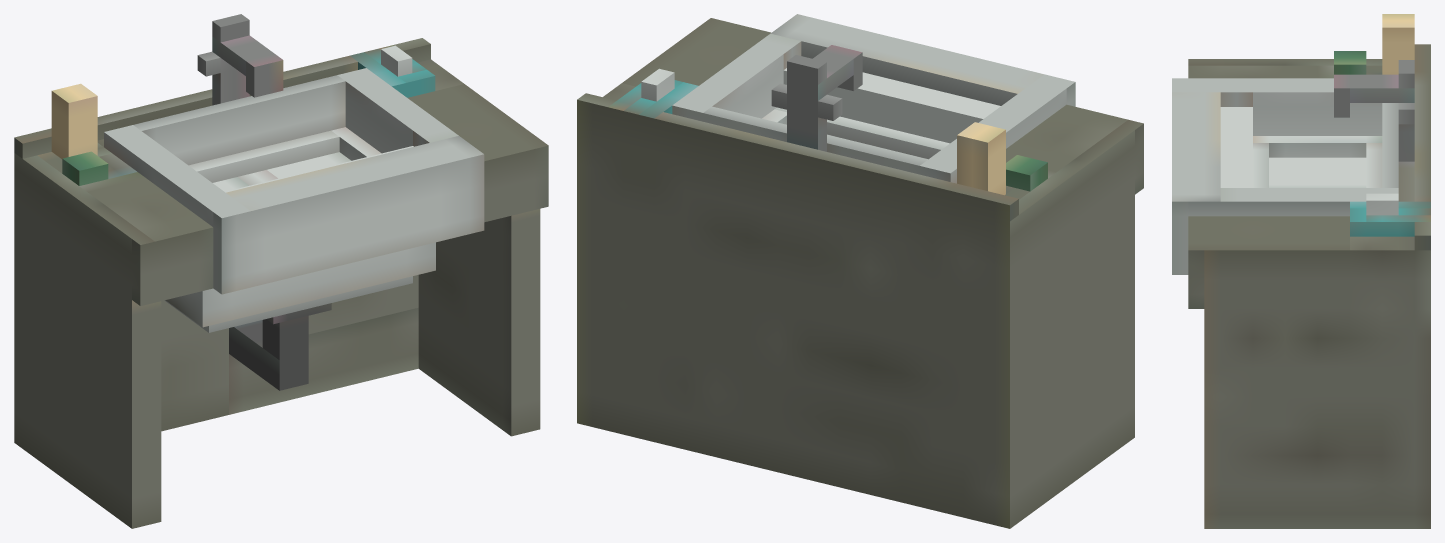
File: BathroomSink_00.fbx
3 renders of one model, left to right at view 1: azimuth 30°, elevation 25°; view 2: azimuth 150°, elevation 25°; view 3: azimuth 270°, elevation 25°, orthographic. The views are drawn at different scales.
Parts seen in each view (by area): view 1: BathroomSink_00; view 2: BathroomSink_00; view 3: BathroomSink_00.
Boxes of the visible parts, x1=… form: BathroomSink_00: x1=14, y1=14, x2=548, y2=528; BathroomSink_00: x1=577, y1=14, x2=1143, y2=528; BathroomSink_00: x1=1172, y1=14, x2=1430, y2=528.
Bounding box in the file's own units: 140 × 80 × 125.
1 material, 1 textured.
